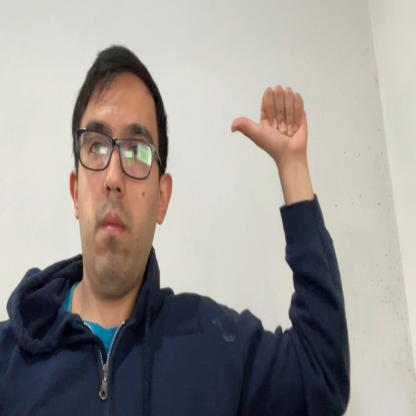A: (231, 85, 309, 158)
